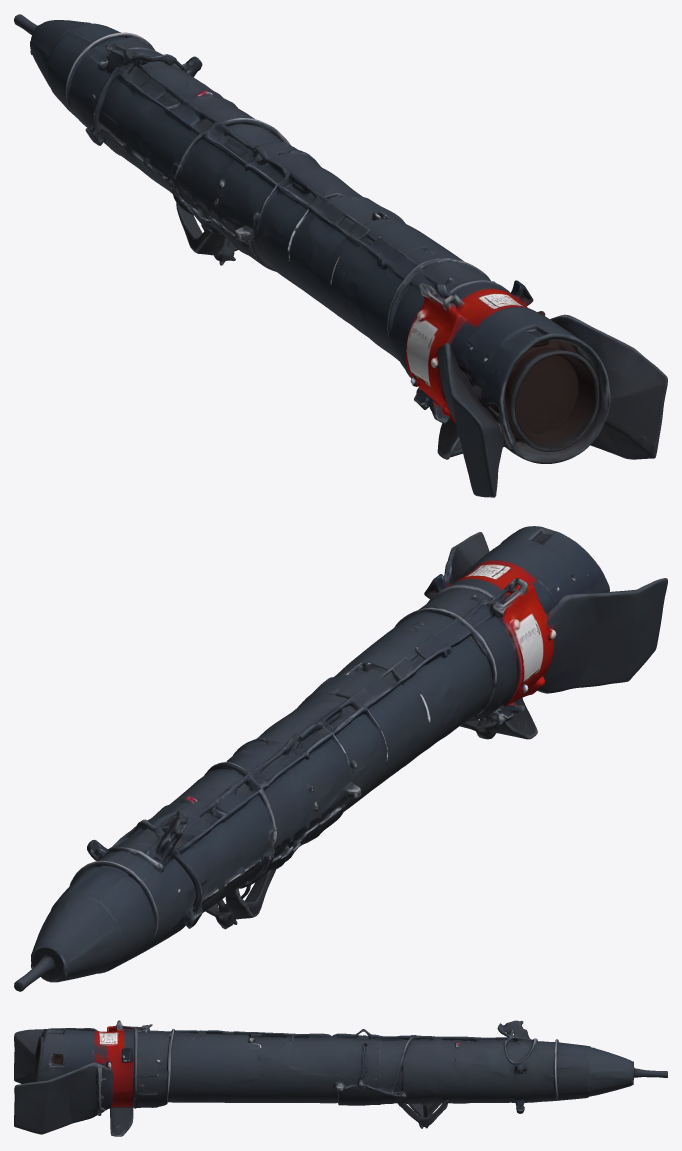
Rendered from missile2.glb.
3 renders of one model, top to bottom at view 1: azimuth 30°, elevation 25°; view 2: azimuth 150°, elevation 25°; view 3: azimuth 270°, elevation 25°, orthographic. The views are drawn at different scales.
Visible parts, largest first — view 1: tripo_node_5da322d9-6992-47ab-8c67-465569f64e42; view 2: tripo_node_5da322d9-6992-47ab-8c67-465569f64e42; view 3: tripo_node_5da322d9-6992-47ab-8c67-465569f64e42.
Part boxes in pixels (x1,y1,x2,y2): tripo_node_5da322d9-6992-47ab-8c67-465569f64e42: (14, 14, 667, 497); tripo_node_5da322d9-6992-47ab-8c67-465569f64e42: (14, 526, 667, 991); tripo_node_5da322d9-6992-47ab-8c67-465569f64e42: (14, 1020, 667, 1136).
Size of the model in its own units: 0.1957 by 0.1675 by 1.
1 material, 1 textured.
